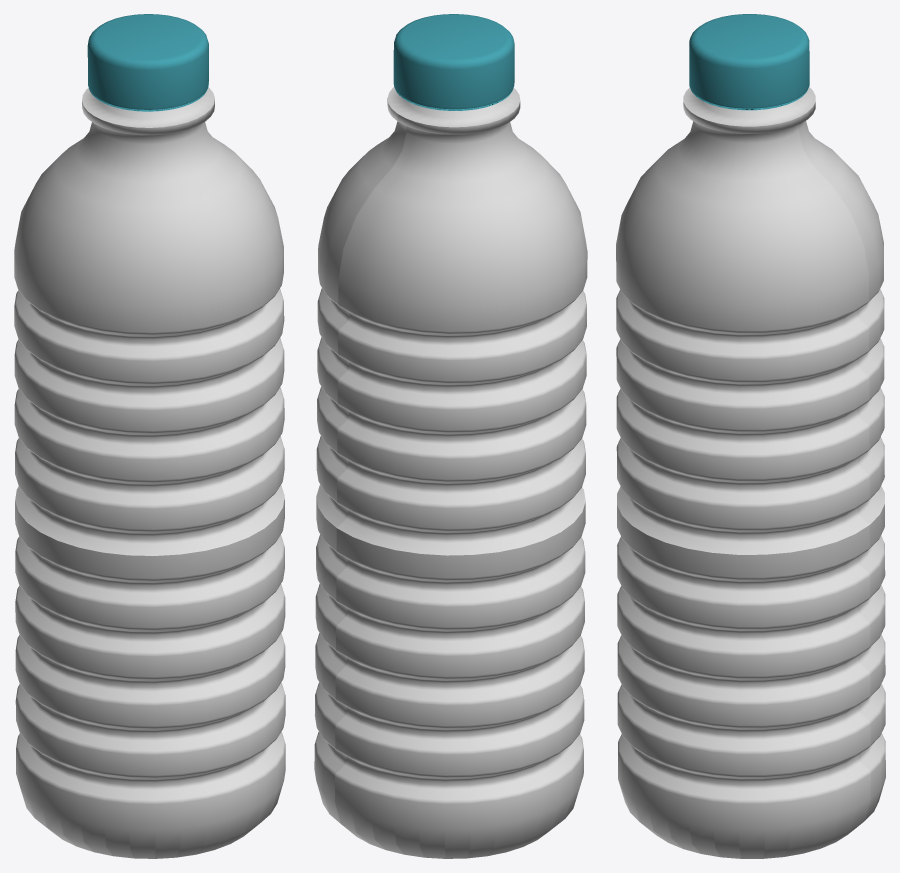
Rendered from plastic water bottle.fbx.
3 renders of one model, left to right at view 1: azimuth 30°, elevation 25°; view 2: azimuth 150°, elevation 25°; view 3: azimuth 270°, elevation 25°, orthographic.
Parts seen in each view (by area): view 1: Object_1; view 2: Object_1; view 3: Object_1.
Part boxes in pixels (x1,y1,x2,y2): Object_1: (14, 14, 285, 858); Object_1: (314, 14, 587, 858); Object_1: (616, 14, 885, 858).
Bounding box in the file's own units: 753 × 2397 × 749.
